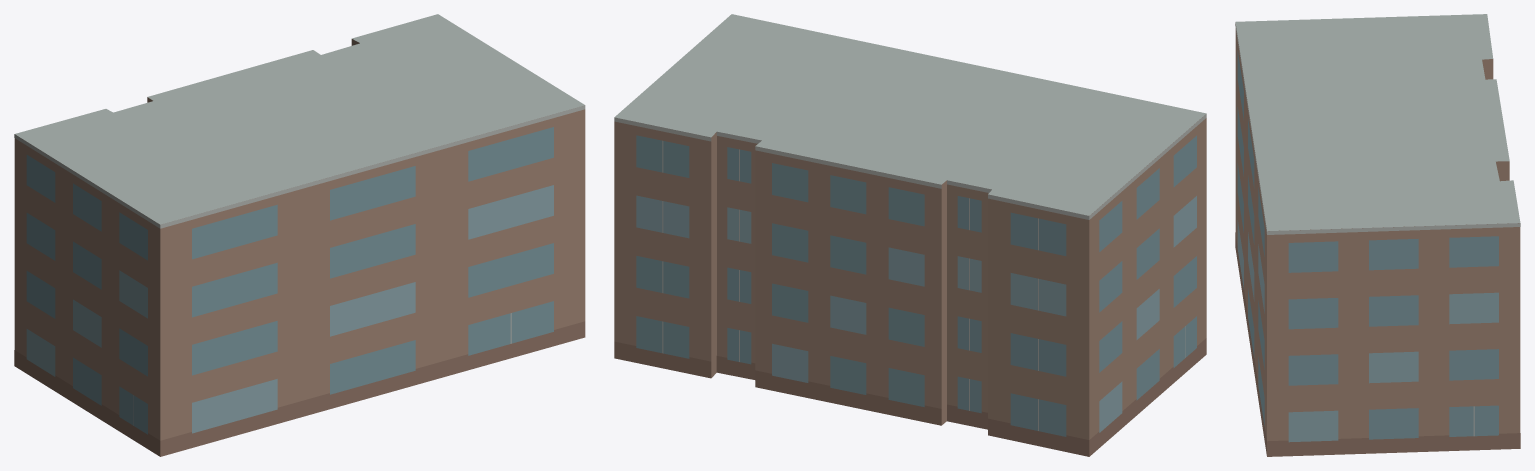
The model's file is survey-upis-32872807.glb.
The picture shows the model from 3 angles, left to right: view 1: azimuth 30°, elevation 25°; view 2: azimuth 150°, elevation 25°; view 3: azimuth 270°, elevation 25°; orthographic projection. The views are drawn at different scales.
Visible parts, largest first — view 1: survey-upis-32872807.tmp; view 2: survey-upis-32872807.tmp; view 3: survey-upis-32872807.tmp.
Boxes of the visible parts, box(x1,y1,x2,y2) form: survey-upis-32872807.tmp: box(14, 14, 585, 456); survey-upis-32872807.tmp: box(614, 14, 1206, 456); survey-upis-32872807.tmp: box(1235, 14, 1520, 456).
Size of the model in its own units: 29.31 by 14.2 by 16.26.
